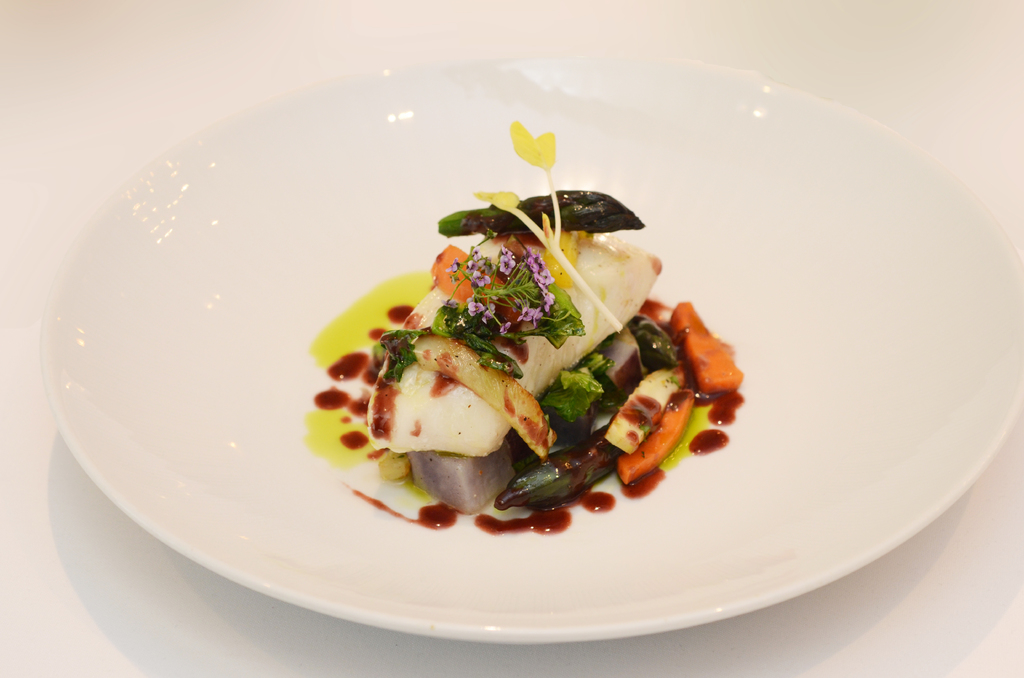plate: (41, 53, 1023, 640)
